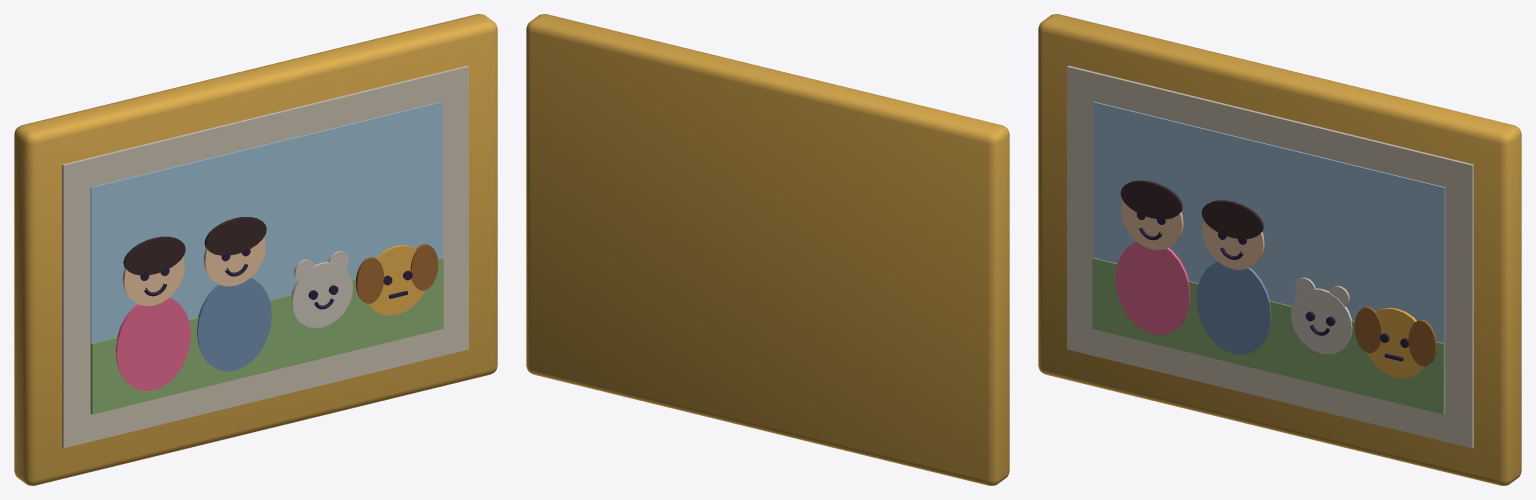
Rendered from photo_frame.glb.
3 renders of one model, left to right at view 1: azimuth 30°, elevation 25°; view 2: azimuth 150°, elevation 25°; view 3: azimuth 330°, elevation 25°, orthographic.
Visible parts, largest first — view 1: photo_frame_frame, photo_frame_sky, photo_frame_mat, photo_frame_grass, photo_frame_body, photo_frame_body.001, photo_frame_cat, photo_frame_dog, photo_frame_hair, photo_frame_hair.001, photo_frame_head, photo_frame_head.001 (+2 smaller); view 2: photo_frame_frame; view 3: photo_frame_frame, photo_frame_sky, photo_frame_mat, photo_frame_grass, photo_frame_body, photo_frame_body.001, photo_frame_cat, photo_frame_dog, photo_frame_hair.001, photo_frame_hair, photo_frame_head, photo_frame_head.001 (+2 smaller).
Part boxes in pixels (left/top/right/bottom): photo_frame_frame: left=14, top=14, right=497, bottom=485; photo_frame_sky: left=90, top=101, right=442, bottom=343; photo_frame_mat: left=62, top=65, right=468, bottom=448; photo_frame_grass: left=90, top=257, right=443, bottom=414; photo_frame_body: left=116, top=297, right=190, bottom=391; photo_frame_body.001: left=197, top=278, right=271, bottom=371; photo_frame_cat: left=291, top=262, right=352, bottom=327; photo_frame_dog: left=368, top=245, right=425, bottom=315; photo_frame_hair: left=123, top=236, right=185, bottom=275; photo_frame_hair.001: left=204, top=217, right=266, bottom=255; photo_frame_head: left=122, top=257, right=184, bottom=306; photo_frame_head.001: left=203, top=237, right=265, bottom=286; photo_frame_frame: left=526, top=14, right=1009, bottom=485; photo_frame_frame: left=1038, top=14, right=1521, bottom=485; photo_frame_sky: left=1093, top=101, right=1445, bottom=413; photo_frame_mat: left=1067, top=65, right=1473, bottom=448; photo_frame_grass: left=1092, top=257, right=1445, bottom=414; photo_frame_body: left=1115, top=241, right=1190, bottom=335; photo_frame_body.001: left=1196, top=261, right=1271, bottom=354; photo_frame_cat: left=1291, top=288, right=1352, bottom=354; photo_frame_dog: left=1367, top=307, right=1424, bottom=378; photo_frame_hair.001: left=1201, top=200, right=1263, bottom=239; photo_frame_hair: left=1120, top=180, right=1182, bottom=219; photo_frame_head: left=1121, top=201, right=1183, bottom=250; photo_frame_head.001: left=1202, top=220, right=1264, bottom=269.
Size of the model in its own units: 0.7 by 0.5 by 0.0615.
